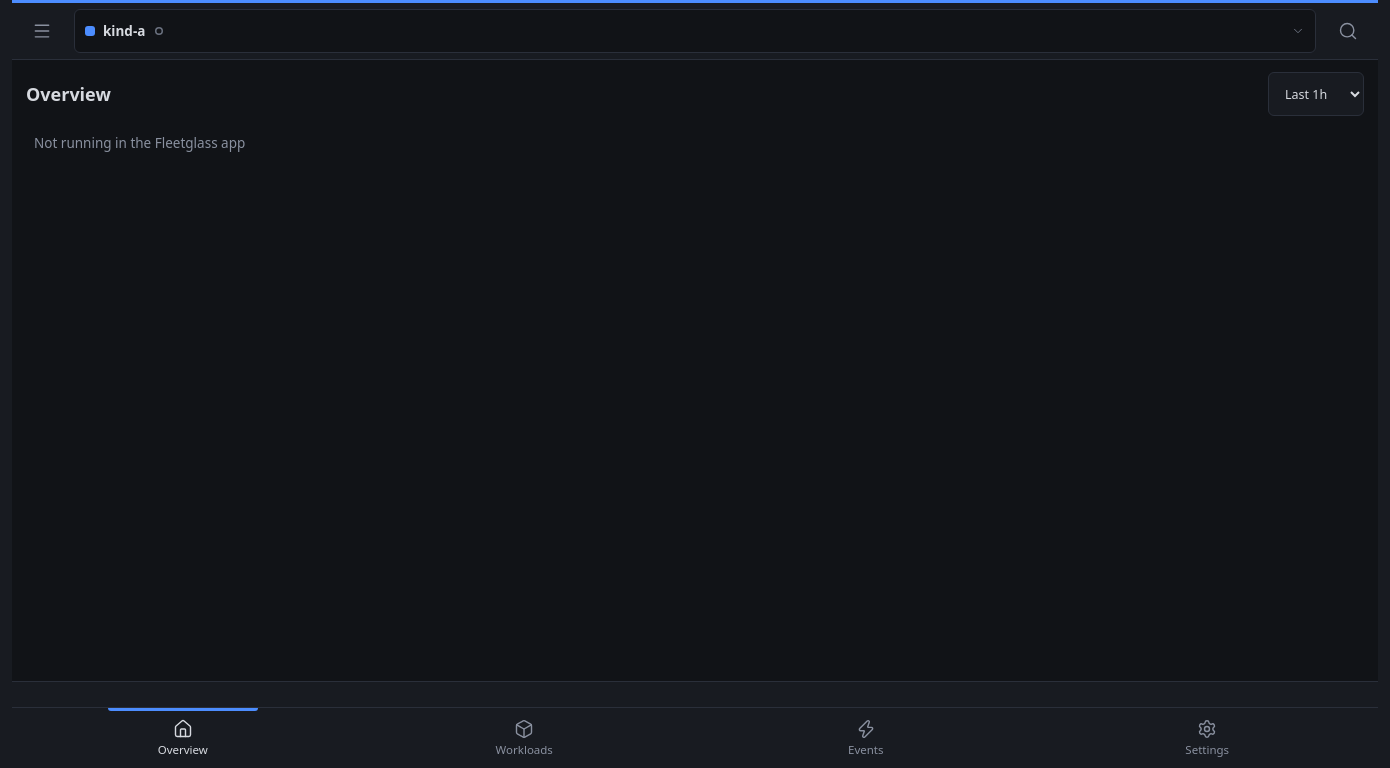
Test case: bottom nav and back › switches screens and marks the active item
Step 1. Click the button with test id "m-bnav-workloads" → (524, 738), box [354,708,695,767]
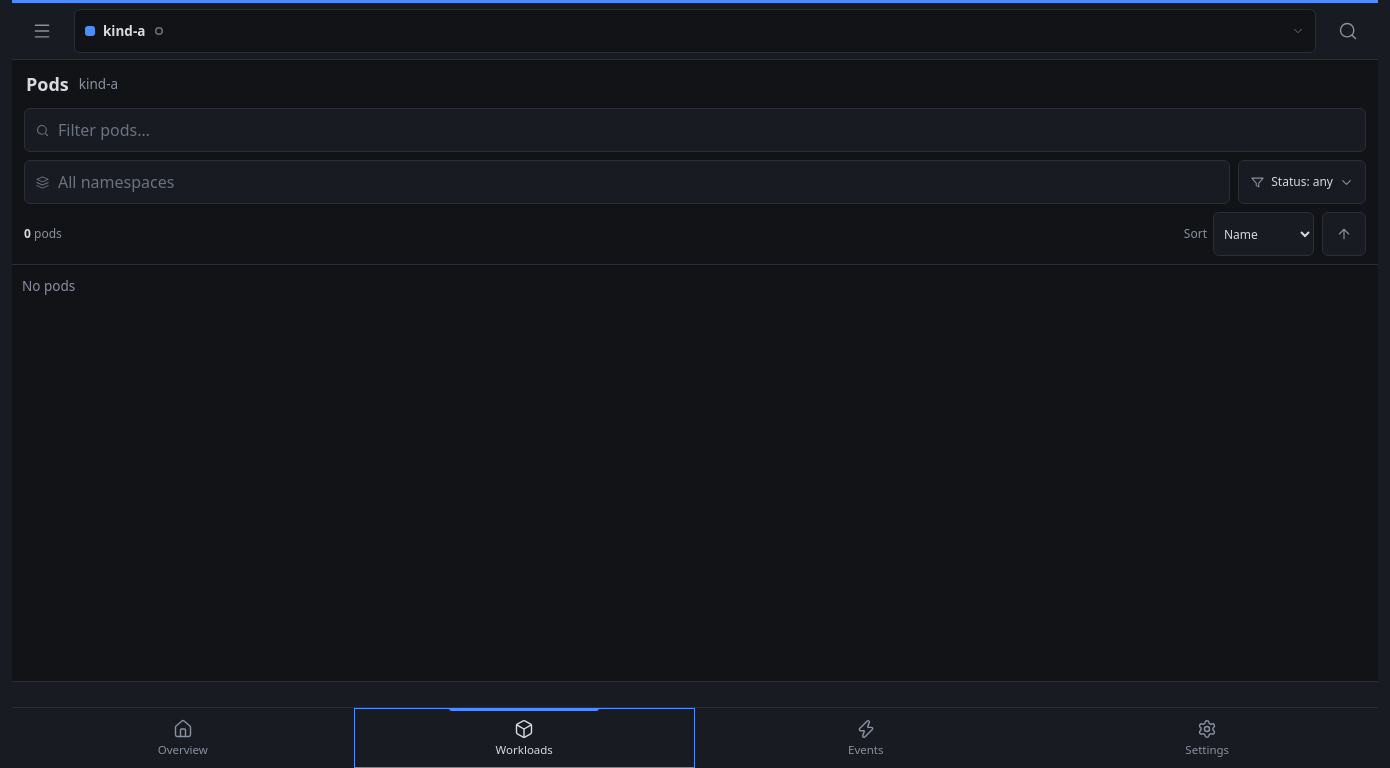
Expected: the button with test id "m-bnav-workloads" is marked as current, [354,708,695,767]
Step 2. Click the button with test id "m-bnav-events" → (866, 738), box [695,708,1036,767]
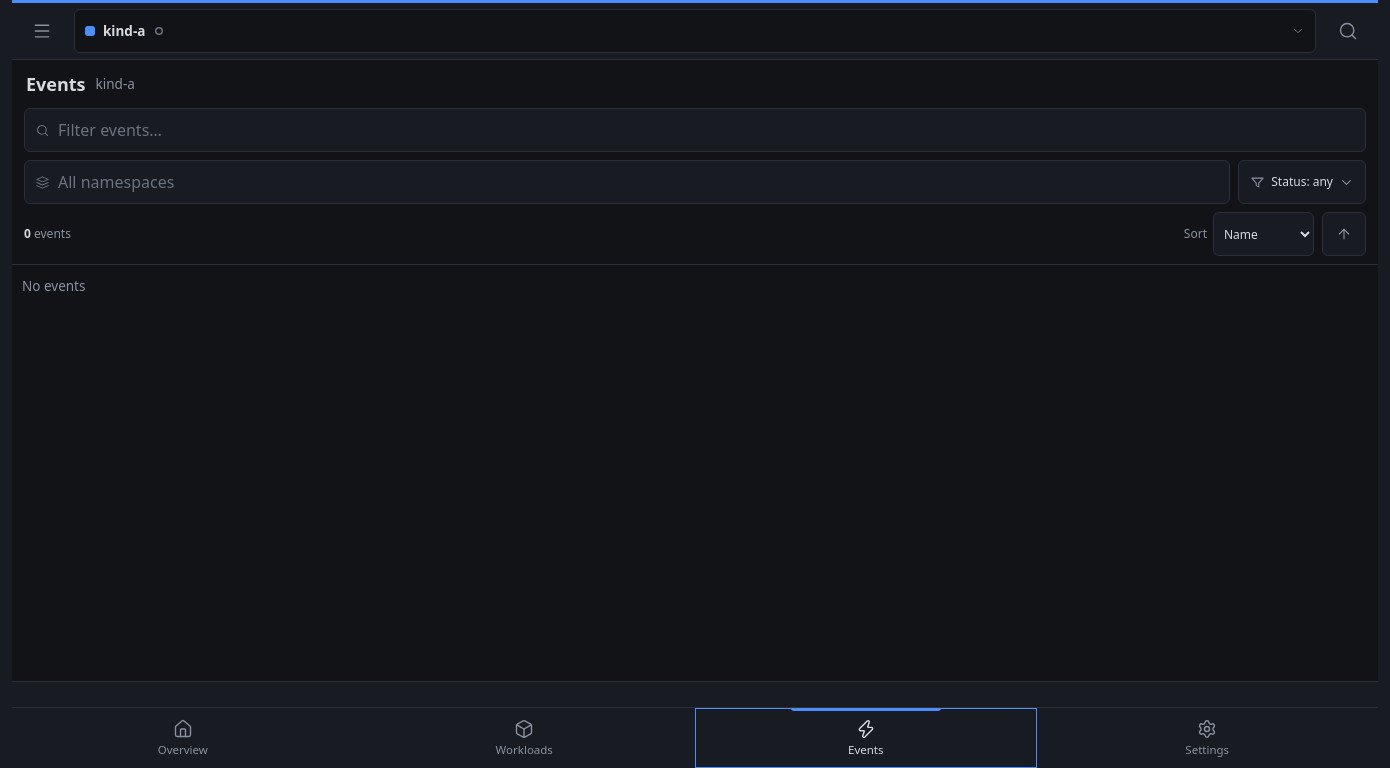
Expected: the button with test id "m-bnav-events" is marked as current, [695,708,1036,767]
Step 3. Click the button with test id "m-bnav-settings" → (1207, 738), box [1036,708,1378,767]
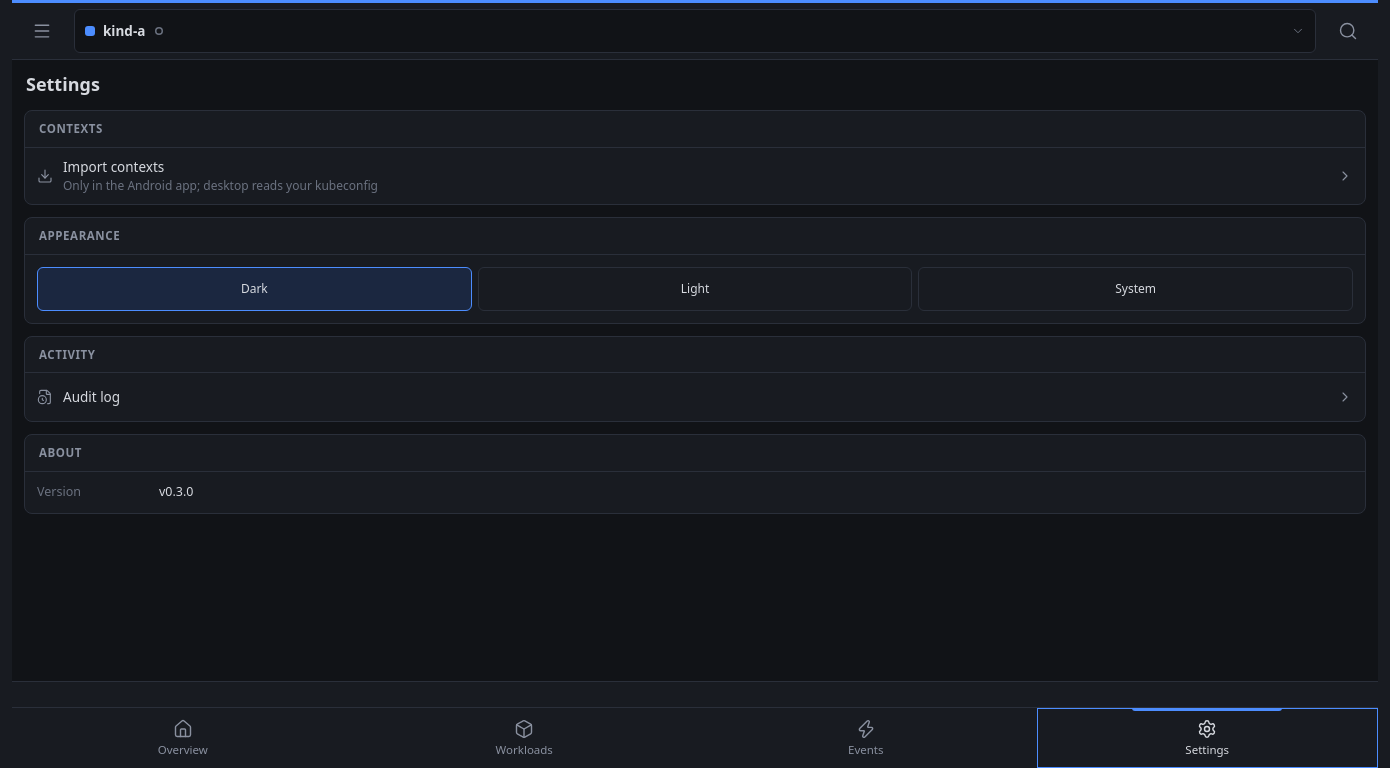
Expected: the element with test id "m-settings" is shown
Step 4. Click the button with test id "m-bnav-overview" → (183, 738), box [12,708,354,767]
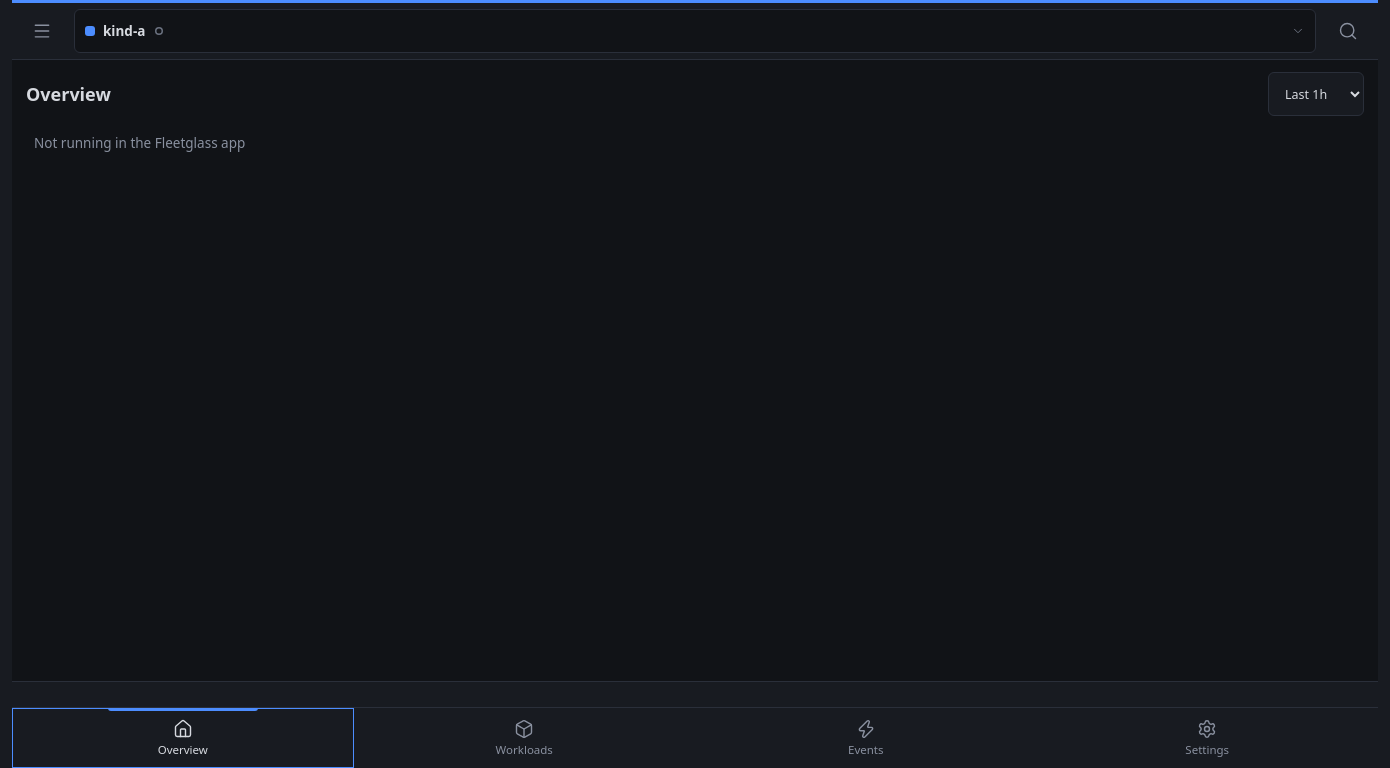
Expected: the element with test id "m-overview" is shown, [26,72,1364,152]
